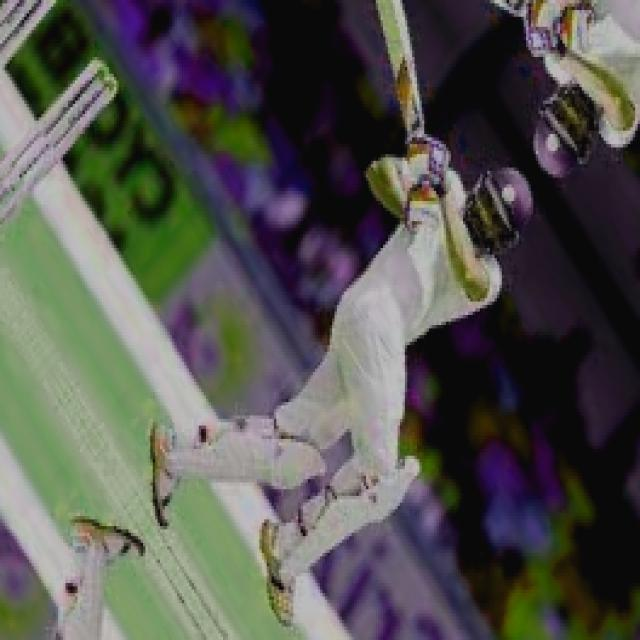toe: (372, 0, 408, 21)
